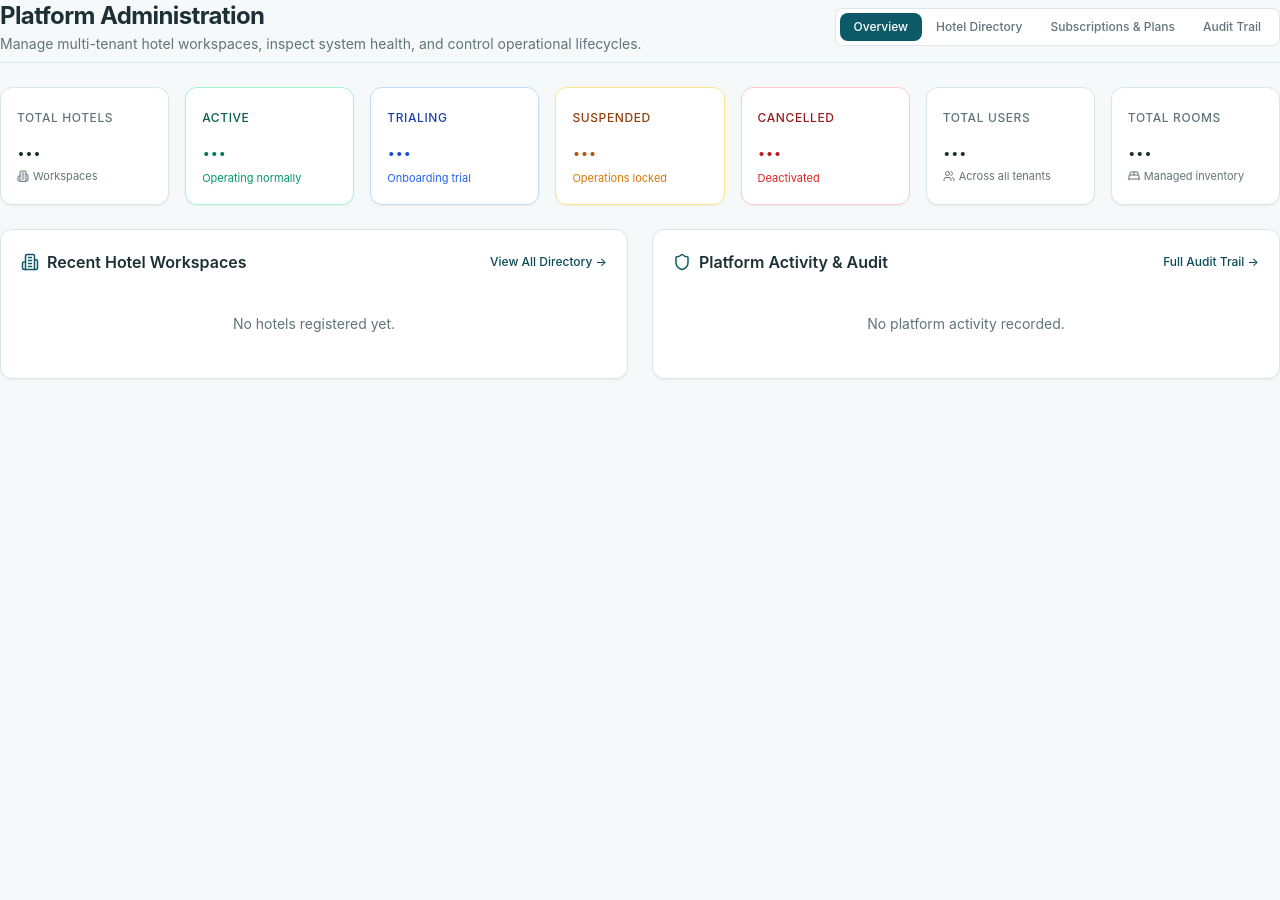
Test: platform subscription currency › shows the subscription billing currency in both table and Manage Plan modal
Click the button "Subscriptions & Plans" at x=1113, y=27, box top-left (1036, 13), bottom-right (1189, 41)
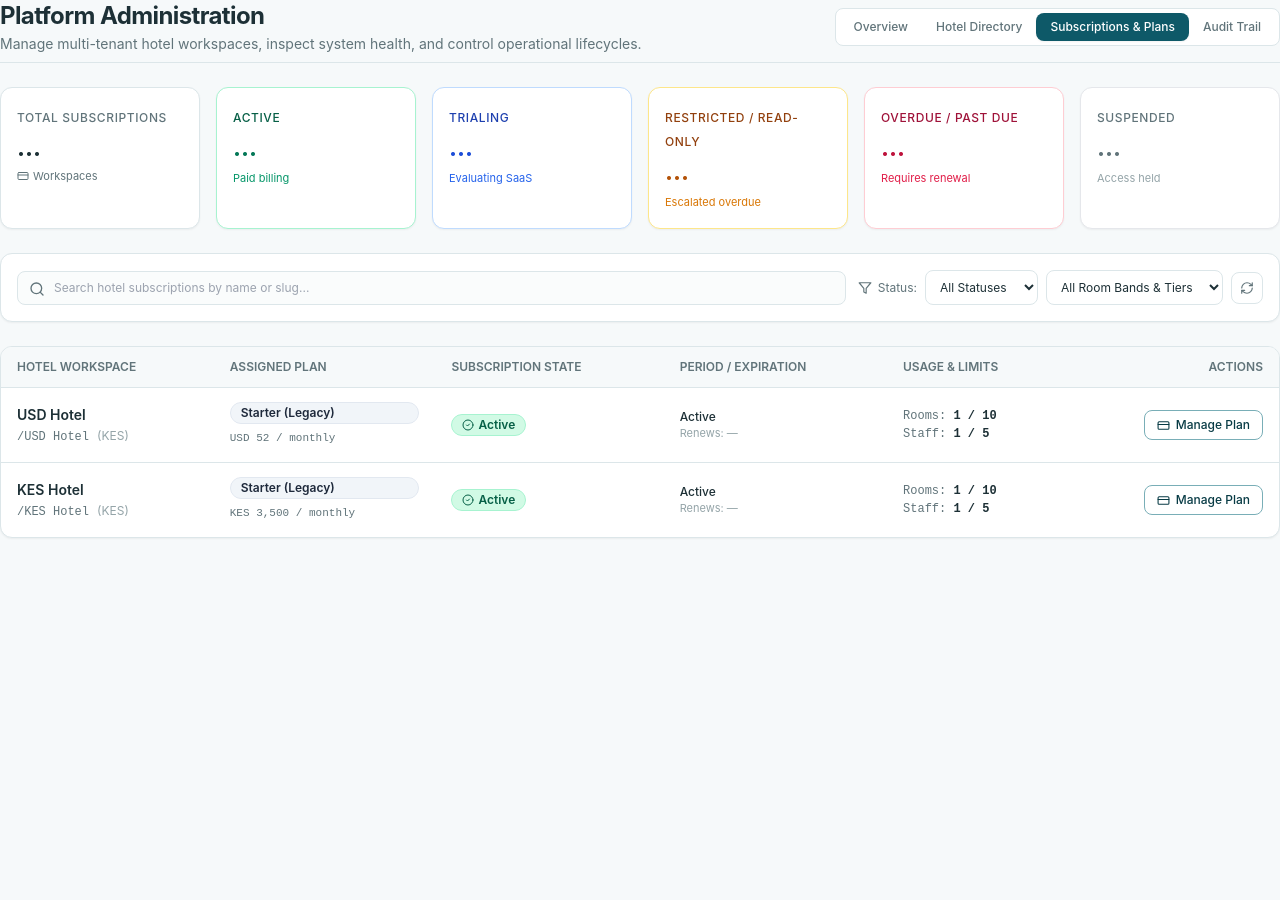
Expected: the text "KES 3,500 / monthly" is shown, top-left (230, 507), bottom-right (355, 519)
Click the button "Manage Plan" in the row of "USD 52" at x=1203, y=425, box top-left (1144, 410), bottom-right (1263, 440)
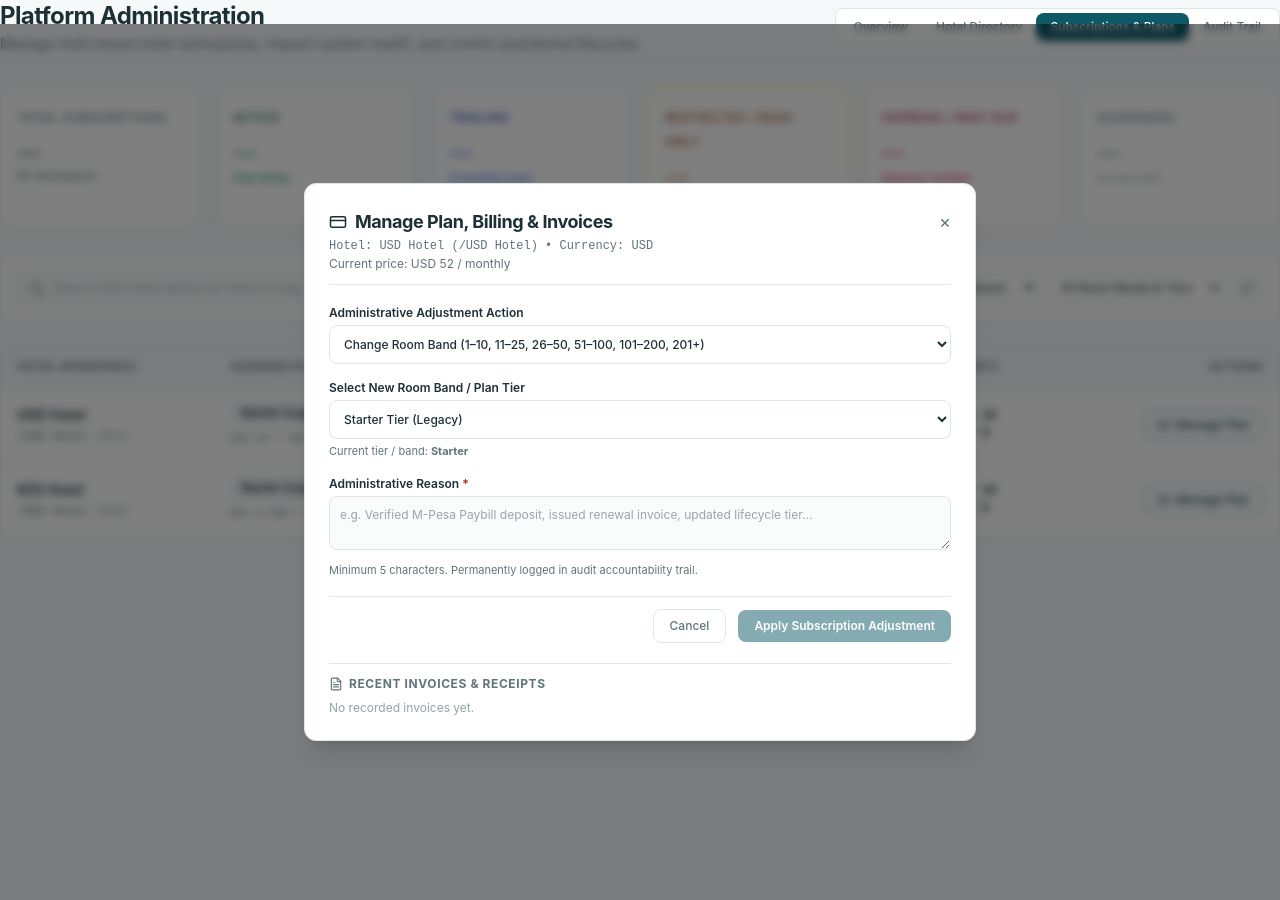
Expected: the text "Current price: USD 52 / monthly" is shown, top-left (329, 256), bottom-right (511, 271)
